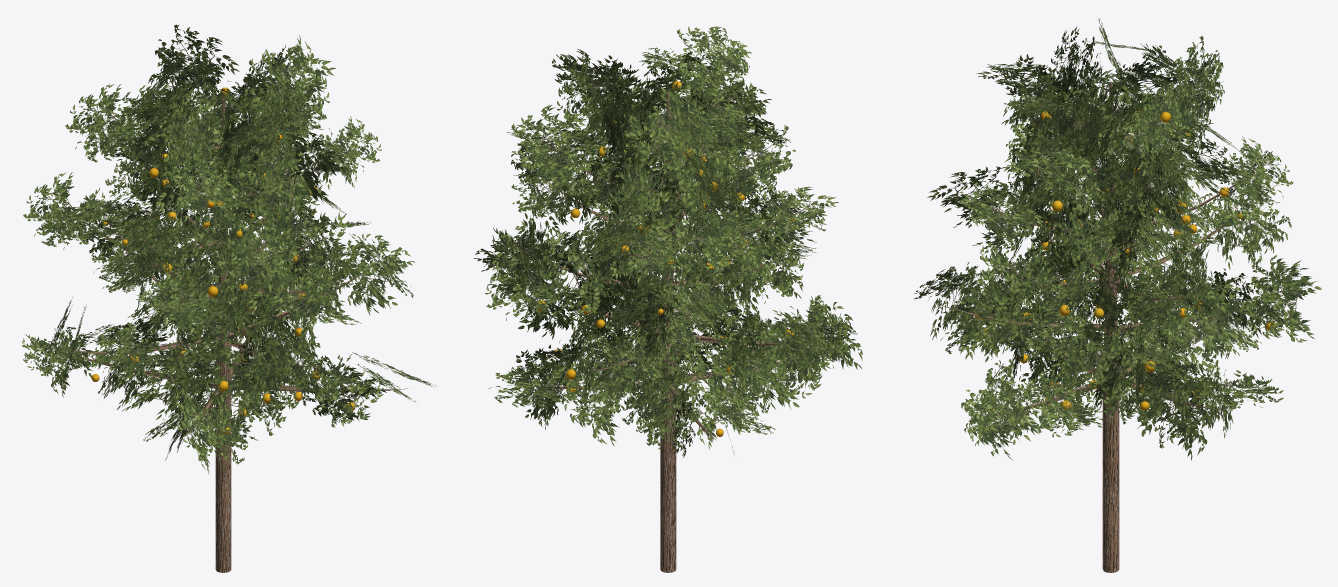
File: Orange_Tree_Model_0.obj
3 renders of one model, left to right at view 1: azimuth 30°, elevation 25°; view 2: azimuth 150°, elevation 25°; view 3: azimuth 270°, elevation 25°, orthographic. The views are drawn at different scales.
Parts seen in each view (by area): view 1: Foliage__leafcard, Bark, Foliage; view 2: Foliage__leafcard, Bark, Foliage; view 3: Foliage__leafcard, Bark, Foliage.
Part boxes in pixels (x1,y1,x2,y2): Foliage__leafcard: (22, 24, 435, 474); Bark: (51, 76, 411, 572); Foliage: (91, 87, 354, 433); Foliage__leafcard: (473, 26, 862, 457); Bark: (487, 55, 844, 572); Foliage: (537, 81, 795, 436); Foliage__leafcard: (914, 18, 1321, 460); Bark: (935, 57, 1298, 572); Foliage: (974, 108, 1275, 410).
Bounding box in the file's own units: 6.8 × 9 × 6.32.
3 materials, 3 textured.
